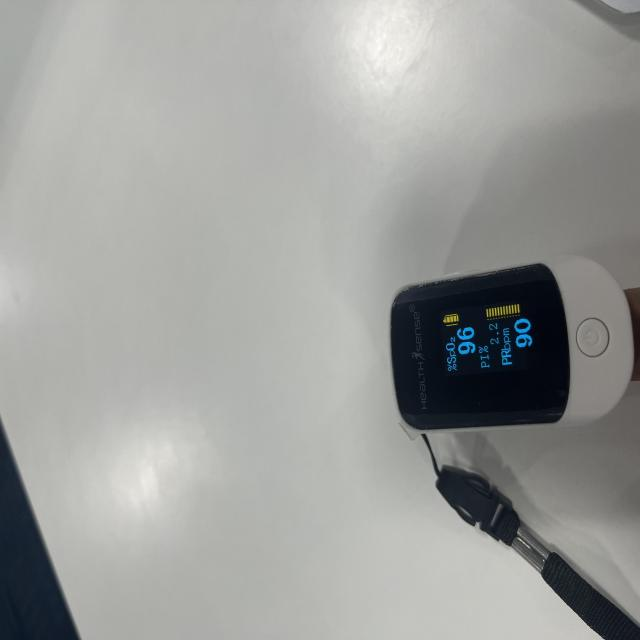spo2: (389, 256, 640, 435)
